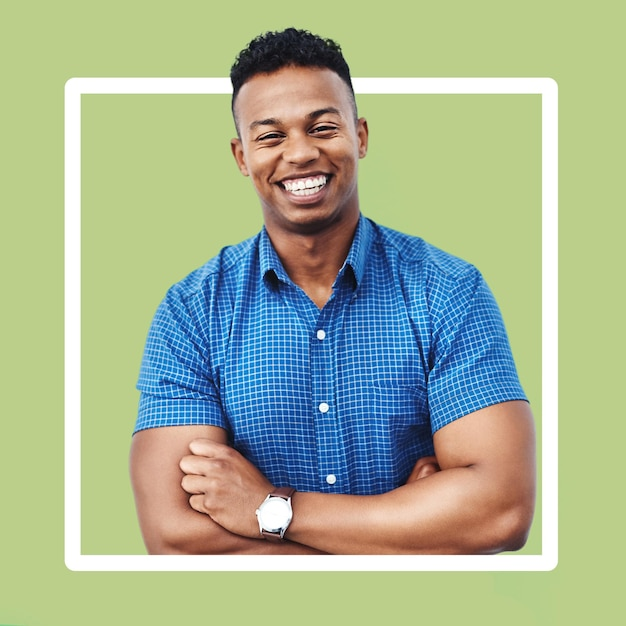young: (206, 29, 380, 228)
